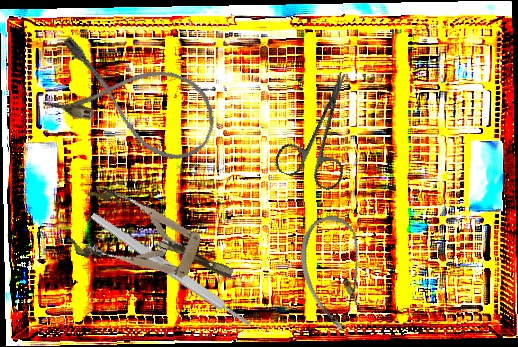Cannula: (38, 30, 228, 171), (288, 209, 384, 337)
Iris Scissors: (271, 61, 378, 194)
Scalpel Handle: (88, 210, 253, 330)
Speculum: (63, 182, 245, 309)
